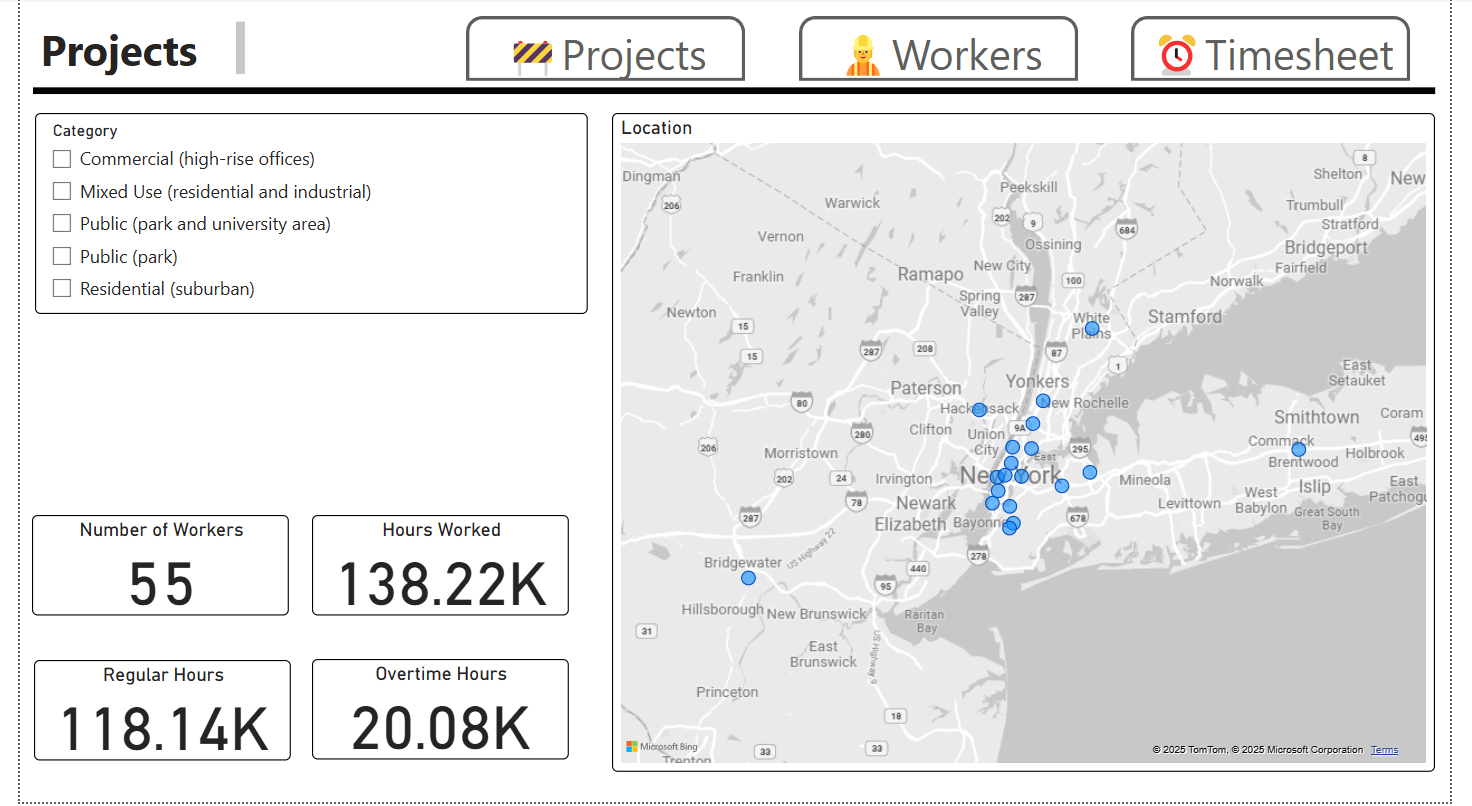

The page's visual inventory and layout, read from the dashboard file:
{"tool":"powerbi","page":{"name":"Projects ","canvas":[1280,720],"ordinal":0},"visuals":[{"type":"textbox","box":[13.6,16.5,192.6,58.4],"z":0},{"type":"actionButton","box":[995,16.5,250,58.4],"z":1000},{"type":"actionButton","box":[697.4,16.5,250,58.4],"z":2000},{"type":"actionButton","box":[399.8,16.5,250,58.4],"z":3000},{"type":"shape","box":[11.7,74.9,1255.7,15.6],"z":4000},{"type":"slicer","fields":{"Values":["Project Categories.Category"]},"box":[13.6,103.1,495.1,179.9],"z":5000},{"type":"card","title":"Number of Workers","fields":{"Values":["CountNonNull(Employees.ID)"]},"box":[10.7,463,230,90],"z":6000},{"type":"card","title":"Hours Worked","fields":{"Values":["Sum(Timesheet.Hours Worked)"]},"box":[261.6,463,230,90],"z":7000},{"type":"card","title":"Regular Hours ","fields":{"Values":["Sum(Timesheet.Regular Hours)"]},"box":[12.6,592.5,230,90],"z":8000},{"type":"card","title":"Overtime Hours ","fields":{"Values":["Sum(Timesheet.Overtime Hours)"]},"box":[261.6,592.2,229.5,90.5],"z":9000},{"type":"map","fields":{"Category":["Projects.Location"]},"box":[530.1,103.1,737.3,590.4],"z":10000}]}

Visuals, with their boxes in screenshot pixels (x1, y1, x2, y2), scaled from the page's 1280x720 canvas onto the 1472x806 screenshot:
textbox: region(16, 18, 237, 84)
actionButton: region(1144, 18, 1432, 84)
actionButton: region(802, 18, 1090, 84)
actionButton: region(460, 18, 747, 84)
shape: region(13, 84, 1458, 101)
slicer - Project Categories.Category: region(16, 115, 585, 317)
"Number of Workers" card: region(12, 518, 277, 619)
"Hours Worked" card: region(301, 518, 565, 619)
"Regular Hours " card: region(14, 663, 279, 764)
"Overtime Hours " card: region(301, 663, 565, 764)
map - Projects.Location: region(610, 115, 1458, 776)
